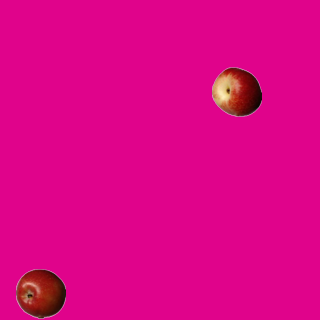Apple Braeburn: (15, 268, 65, 318)
Nectarine: (211, 66, 261, 116)
